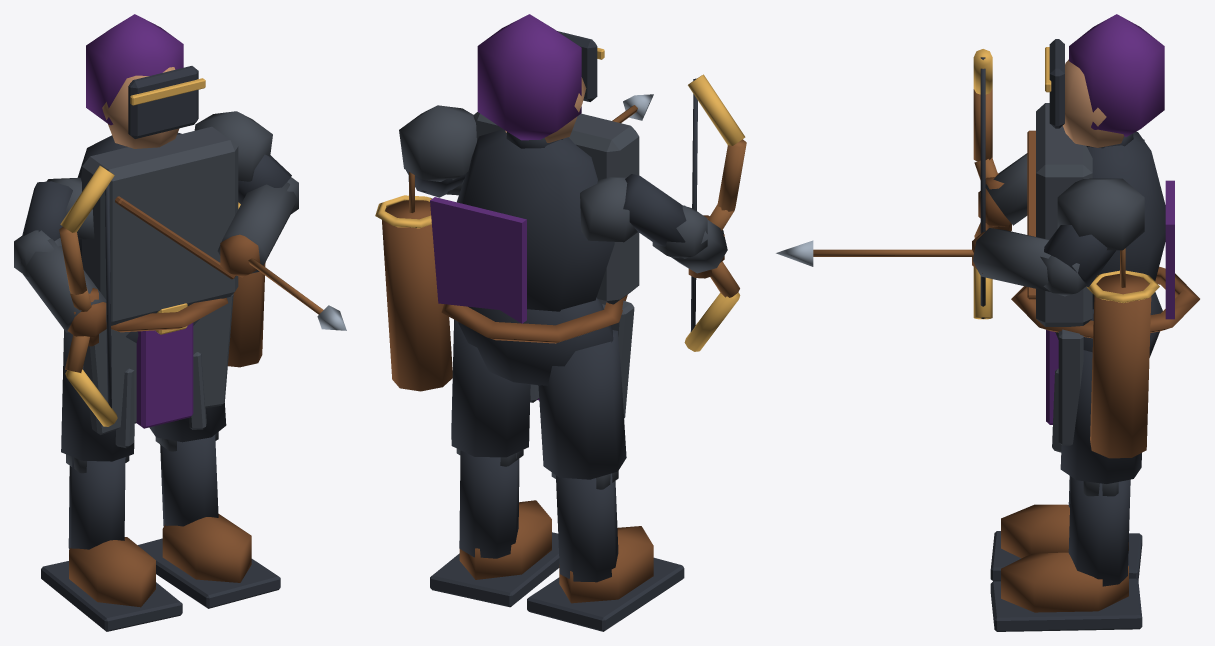
3 views of the same model, side by side, from view 1: azimuth 30°, elevation 25°; view 2: azimuth 150°, elevation 25°; view 3: azimuth 270°, elevation 25° (orthographic). The views are drawn at different scales.
Parts seen in each view (by area): view 1: WK_Hegemony_DuskRanger_LOD2_Compact_Static; view 2: WK_Hegemony_DuskRanger_LOD2_Compact_Static; view 3: WK_Hegemony_DuskRanger_LOD2_Compact_Static.
Boxes of the visible parts, bbox=[...] form: WK_Hegemony_DuskRanger_LOD2_Compact_Static: bbox=[14, 14, 346, 631]; WK_Hegemony_DuskRanger_LOD2_Compact_Static: bbox=[375, 14, 746, 631]; WK_Hegemony_DuskRanger_LOD2_Compact_Static: bbox=[776, 14, 1199, 631].
Size of the model in its own units: 1.06 by 2.01 by 1.35.
